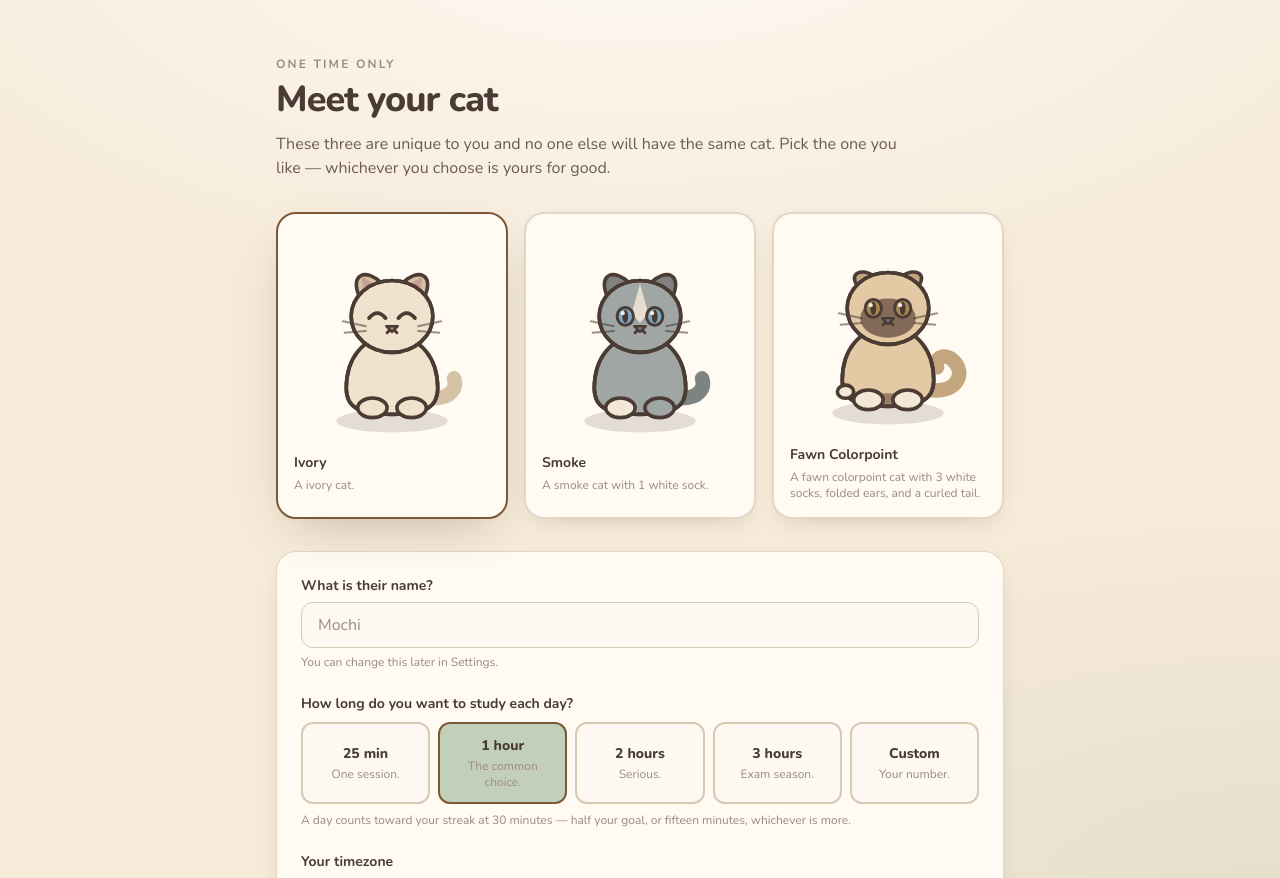
Test case: the daily goal picker › goes back to a preset cleanly
Click the button "Custom Your number." at (914, 762), box [850,722,979,804]
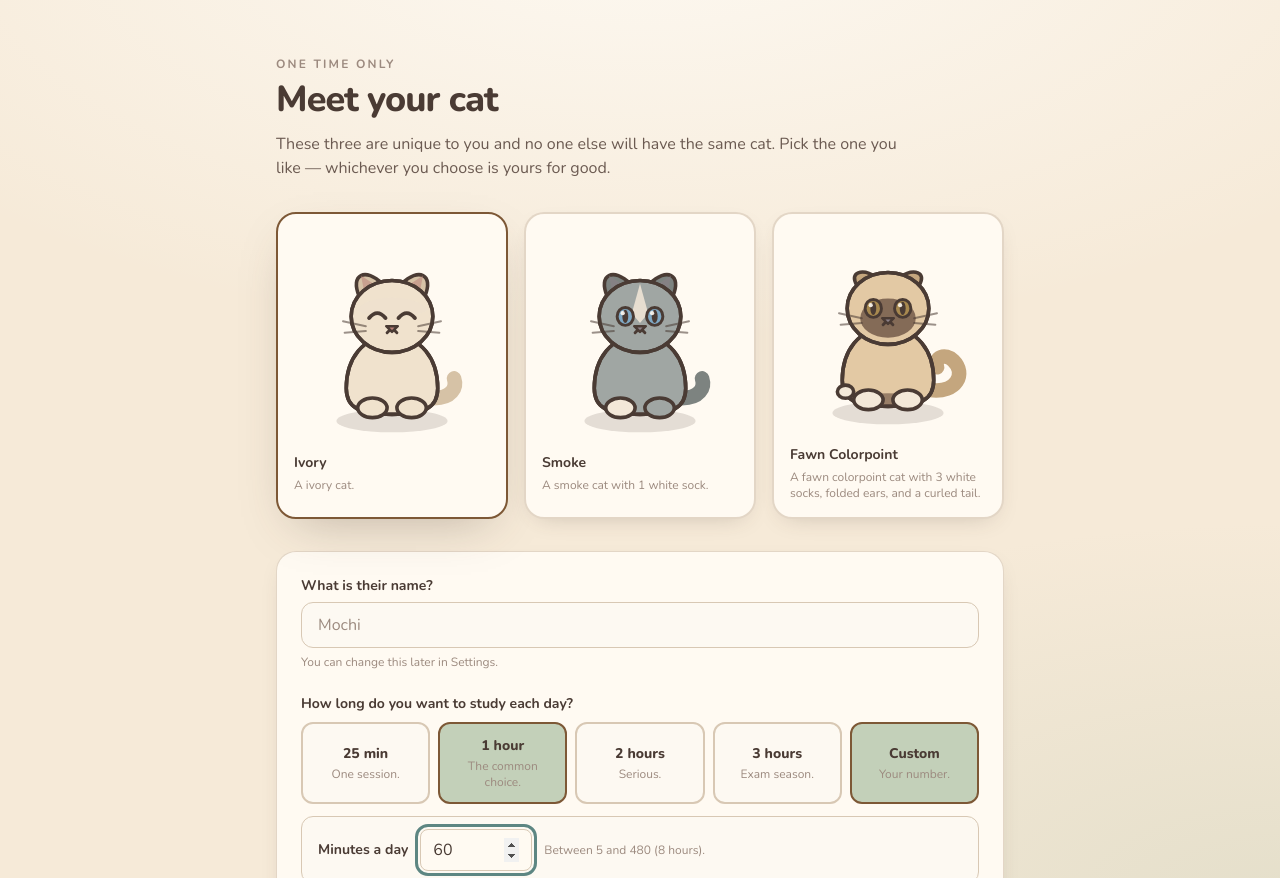
Click the button "2 hours Serious." at (640, 762), box [575,722,705,804]
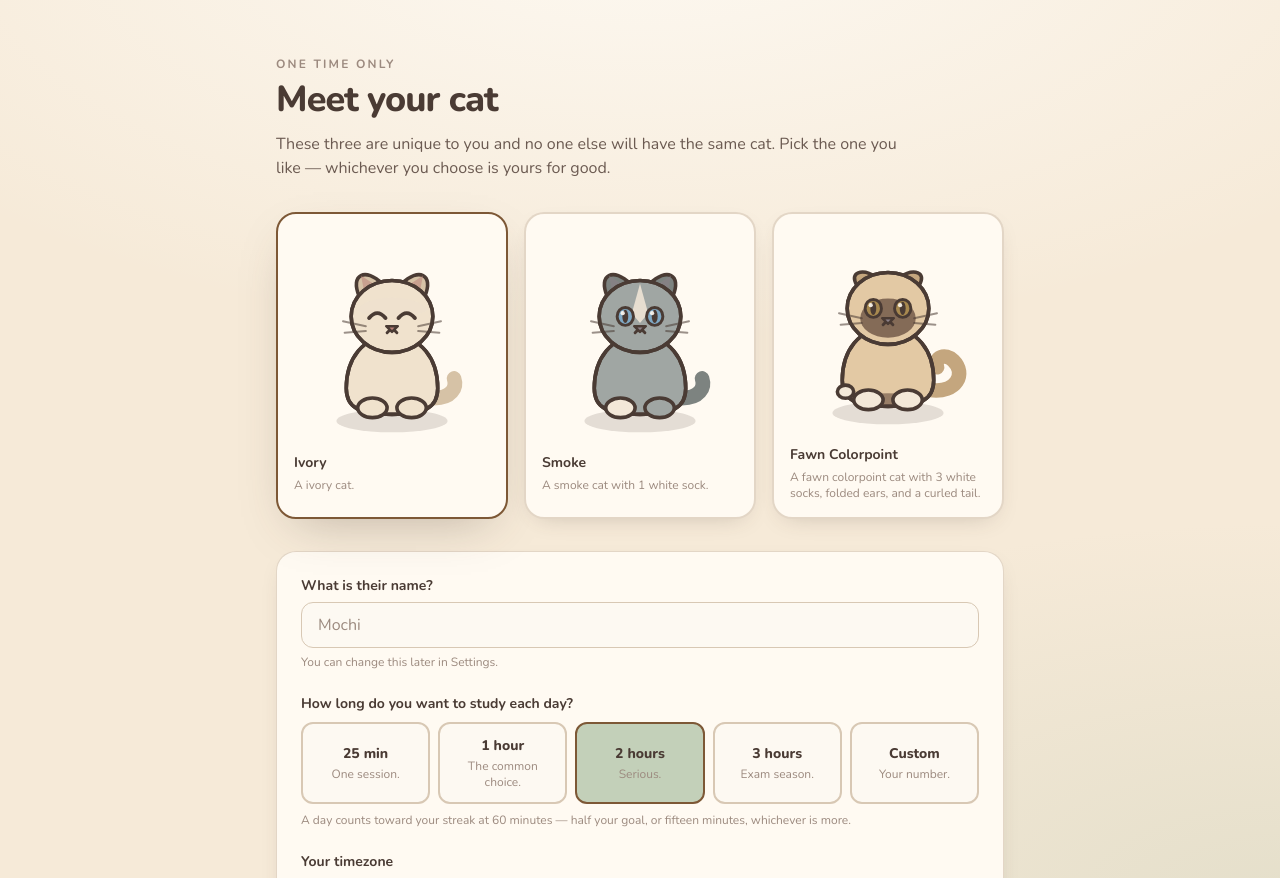
expect the label labelled "Minutes a day" is gone: met
expect the text "counts toward your streak at 60 minutes" is shown: met, box [301,812,851,828]
